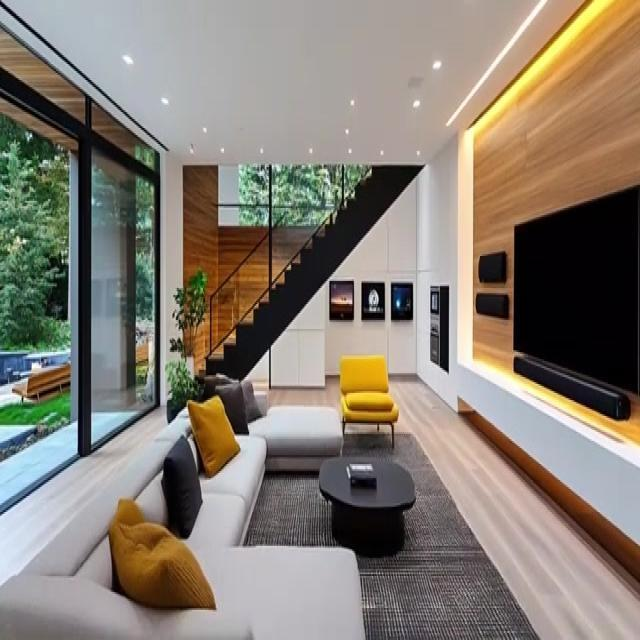obstacle: (0, 382, 365, 638), (318, 455, 416, 555), (339, 354, 399, 448)
